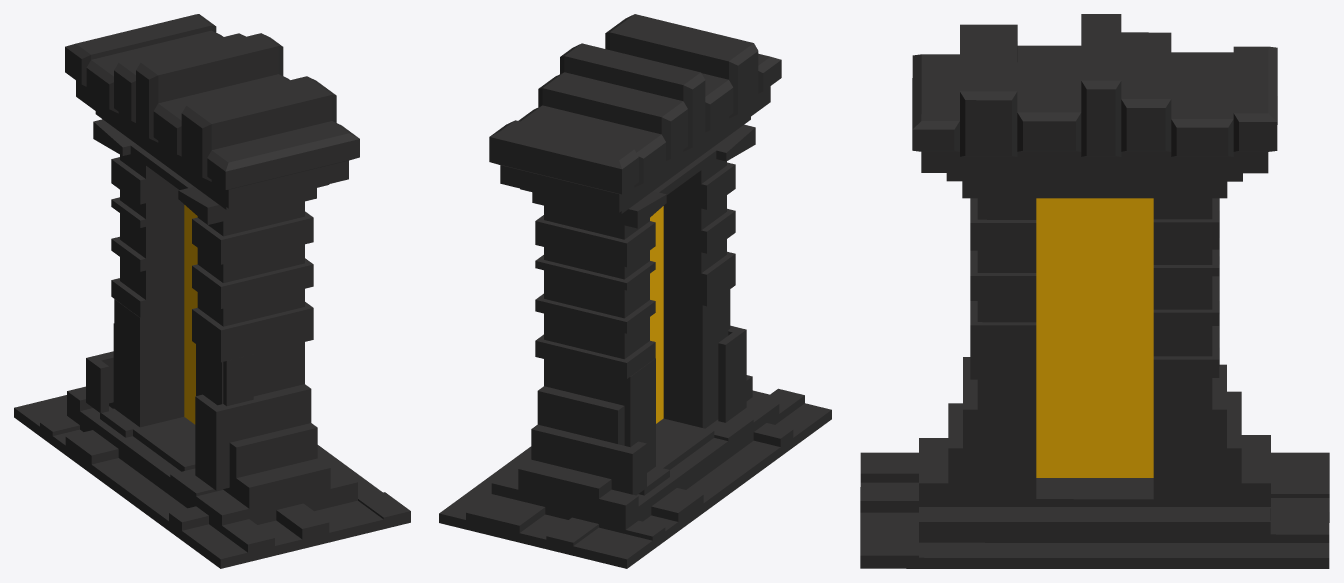
Rendered from portail_lumiere.fbx.
3 views of the same model, side by side, from view 1: azimuth 30°, elevation 25°; view 2: azimuth 150°, elevation 25°; view 3: azimuth 270°, elevation 25° (orthographic). The views are drawn at different scales.
Parts seen in each view (by area): view 1: porte2_v1:pasted__restoftower, porte2_v1:pasted__toptower, porte2_v1:pasted__light1; view 2: porte2_v1:pasted__restoftower, porte2_v1:pasted__toptower, porte2_v1:pasted__light1; view 3: porte2_v1:pasted__restoftower, porte2_v1:pasted__toptower, porte2_v1:pasted__light1.
Boxes of the visible parts, x1,y1,x2,y2 form: porte2_v1:pasted__restoftower: (14,154,410,568); porte2_v1:pasted__toptower: (65,14,359,224); porte2_v1:pasted__light1: (184,205,197,424); porte2_v1:pasted__restoftower: (439,159,831,568); porte2_v1:pasted__toptower: (489,14,781,228); porte2_v1:pasted__light1: (650,206,663,423); porte2_v1:pasted__restoftower: (860,198,1329,568); porte2_v1:pasted__toptower: (912,14,1277,198); porte2_v1:pasted__light1: (1036,198,1153,477).
Size of the model in its own units: 19.79 by 41.08 by 37.25.
